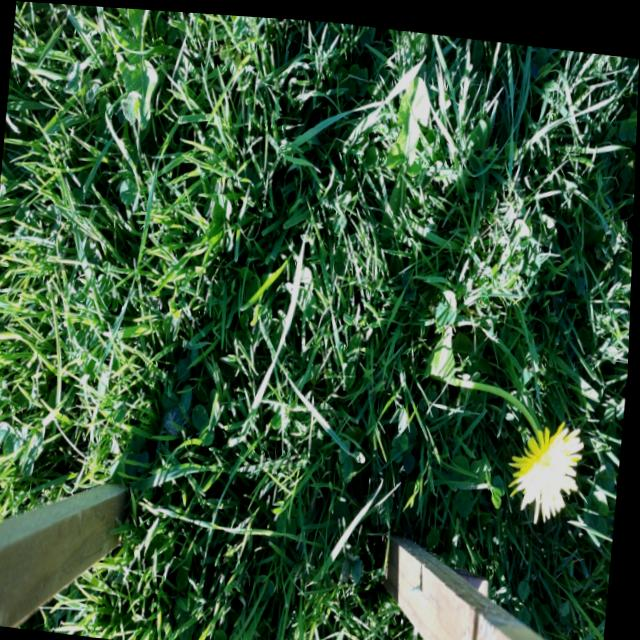base: (404, 335, 445, 396)
flower: (510, 408, 588, 514)
